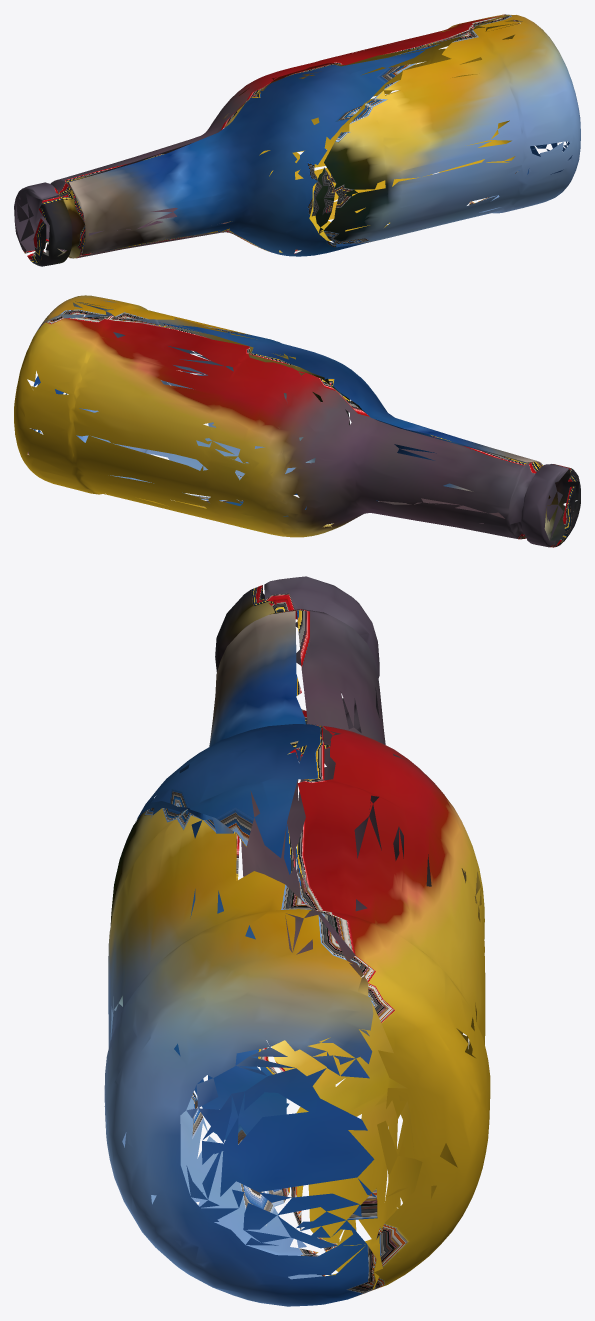
Rendered from glas-gruene-flasche.glb.
The picture shows the model from 3 angles, top to bottom: view 1: azimuth 30°, elevation 25°; view 2: azimuth 150°, elevation 25°; view 3: azimuth 270°, elevation 25°; orthographic projection. The views are drawn at different scales.
Parts seen in each view (by area): view 1: glas-gruene-flasche; view 2: glas-gruene-flasche; view 3: glas-gruene-flasche.
Part boxes in pixels (box(x1,y1,x2,y2)): glas-gruene-flasche: box(14, 14, 580, 266); glas-gruene-flasche: box(14, 295, 580, 547); glas-gruene-flasche: box(104, 576, 490, 1306).
Bounding box in the file's own units: 0.1297 × 0.0427 × 0.0423.
Materials: 1 (1 with a texture image).
